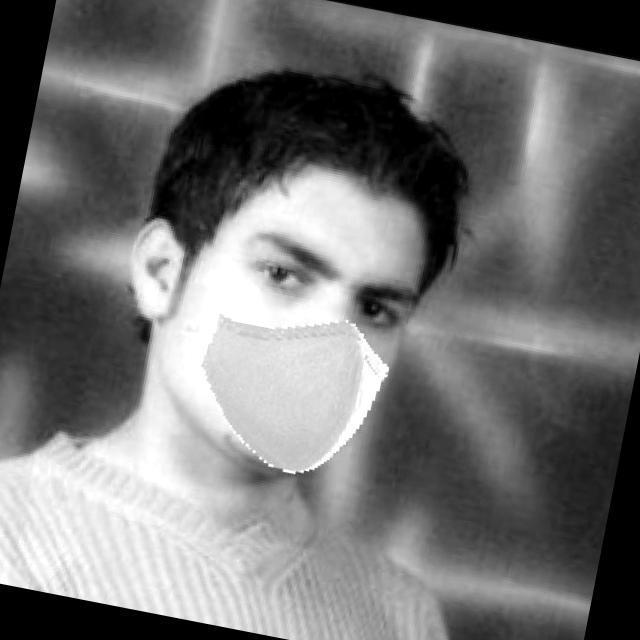mask: (188, 313, 382, 478)
no_gloves: (156, 68, 458, 216)
